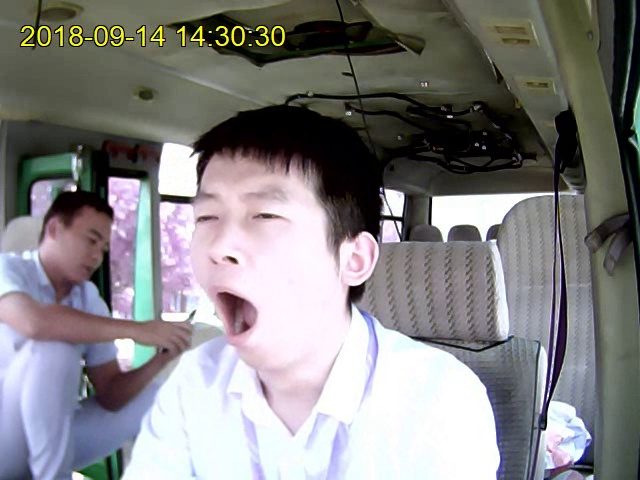open_mouth: (209, 284, 268, 347)
